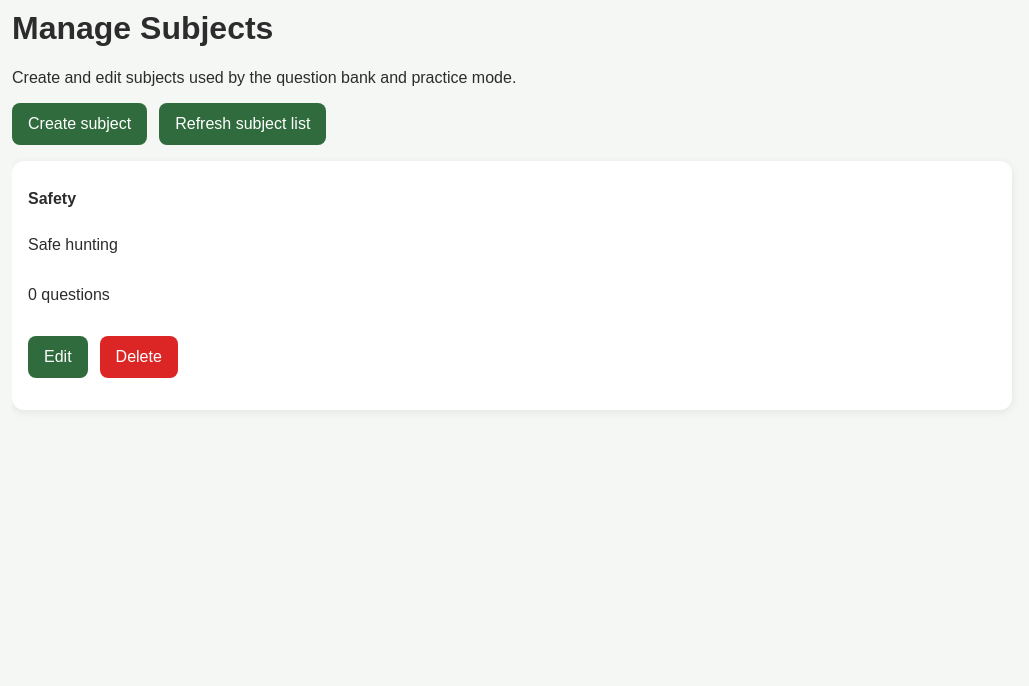
Test: Subject management › requires named confirmation, cancels without a request and deletes only on success
Expected: the heading "Safety" is shown, left=28, top=190, right=76, bottom=207
Click the button with aria-label "Delete subject Safety". click: (139, 357)
box: left=100, top=336, right=178, bottom=378
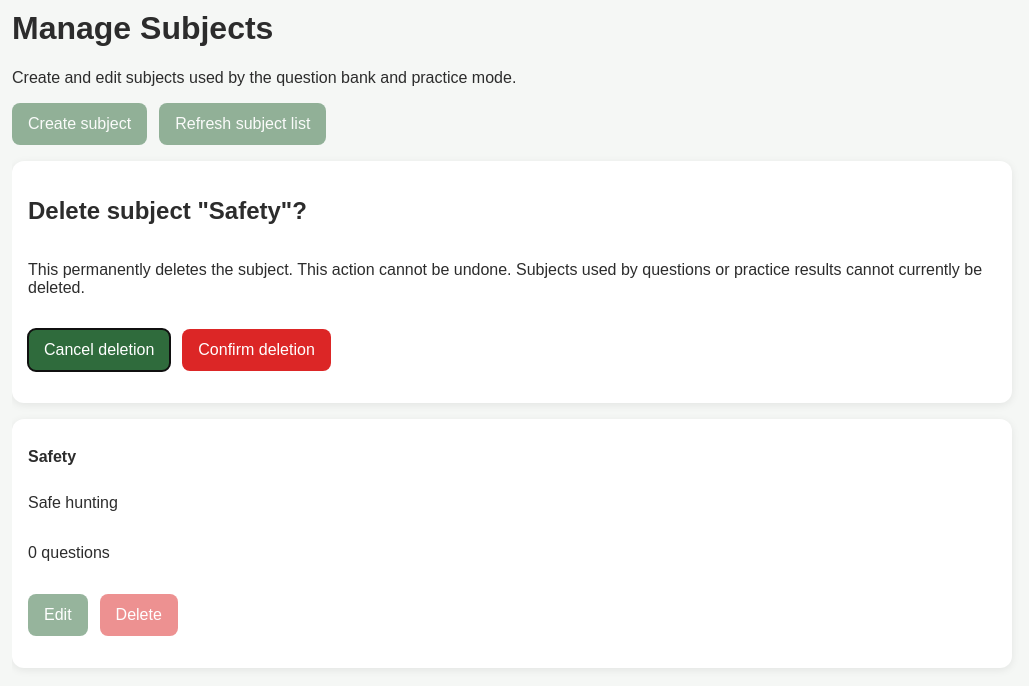
Now the element "Delete subject \"Safety\"?" is shown, box left=12, top=161, right=1012, bottom=403
Click the button "Cancel deletion". click: (99, 350)
box: left=28, top=329, right=170, bottom=371
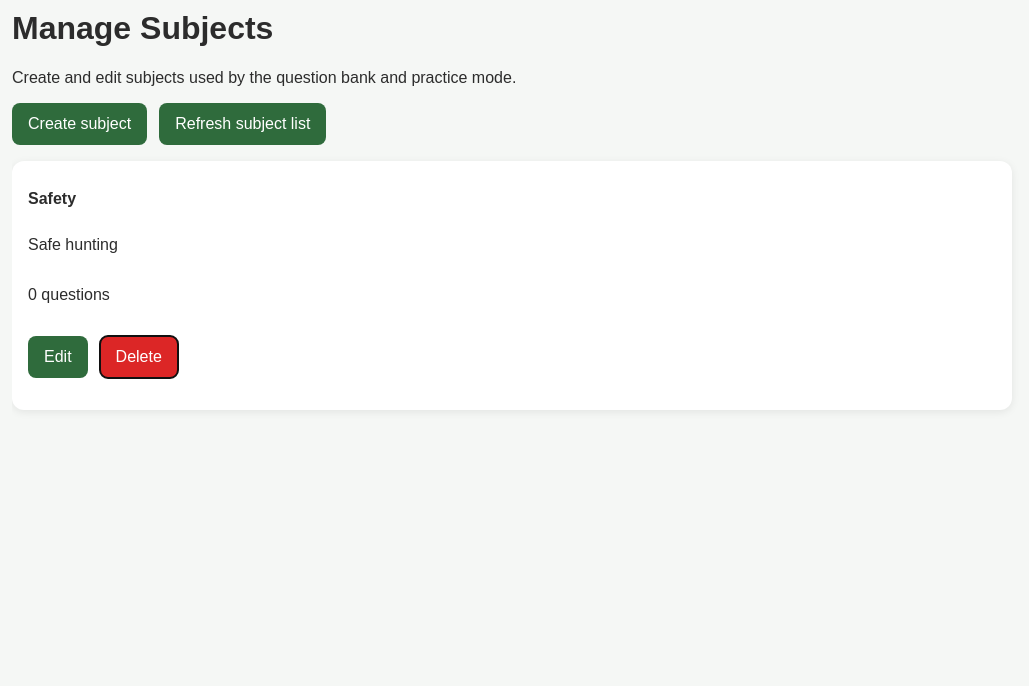
Click the button with aria-label "Delete subject Safety". click: (139, 357)
box: left=100, top=336, right=178, bottom=378
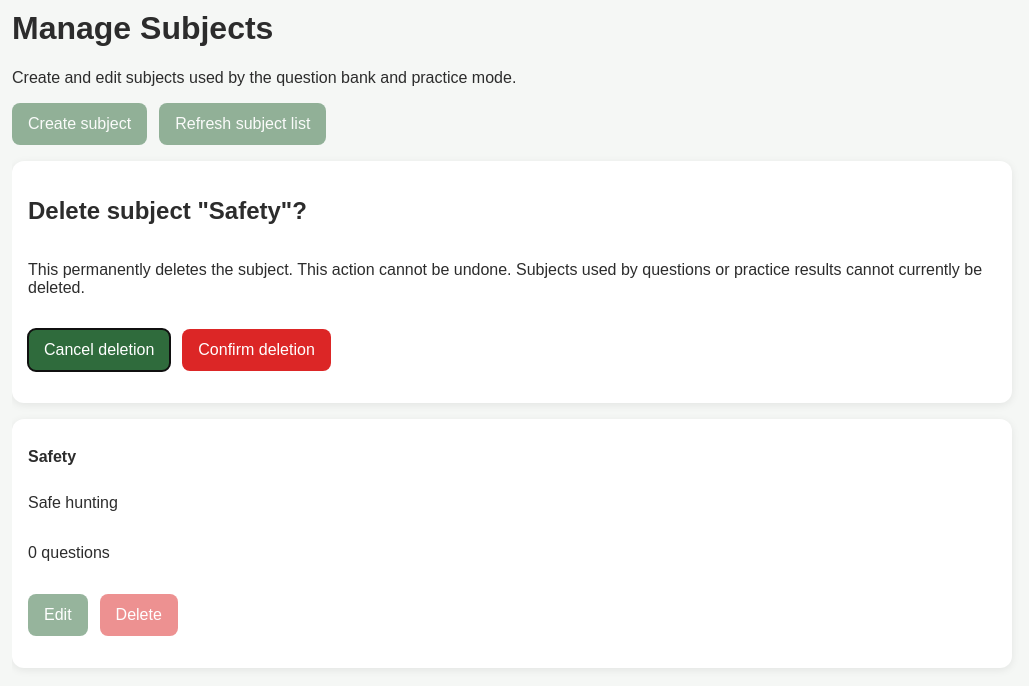
Click the button "Confirm deletion". click: (257, 350)
box: left=182, top=329, right=331, bottom=371
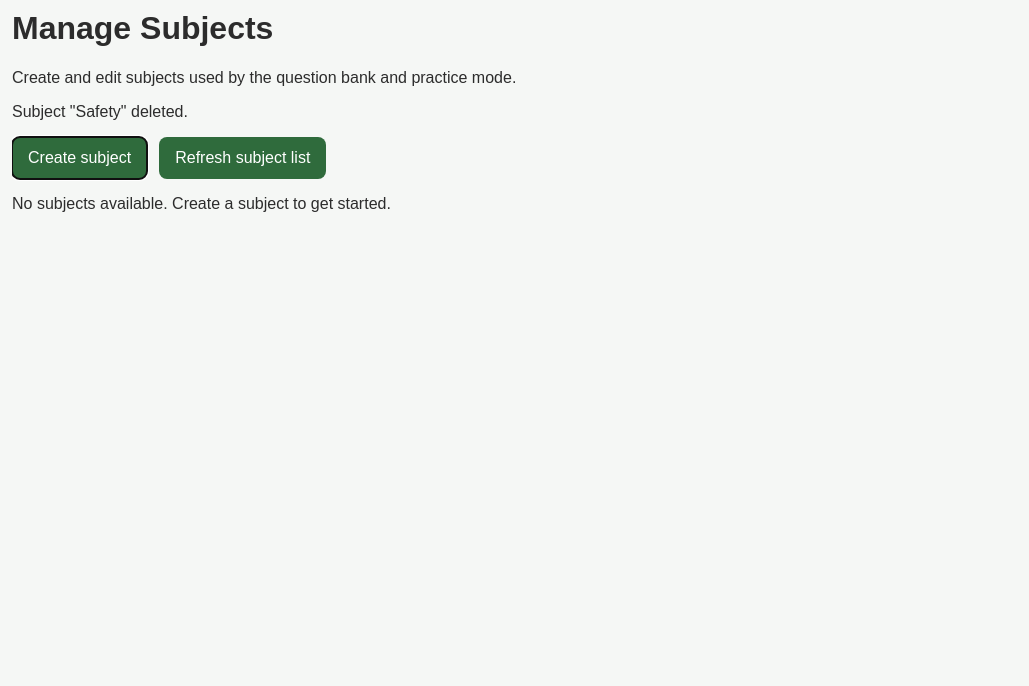
Now the message reads "Subject \"Safety\" deleted.", box left=12, top=103, right=188, bottom=120
